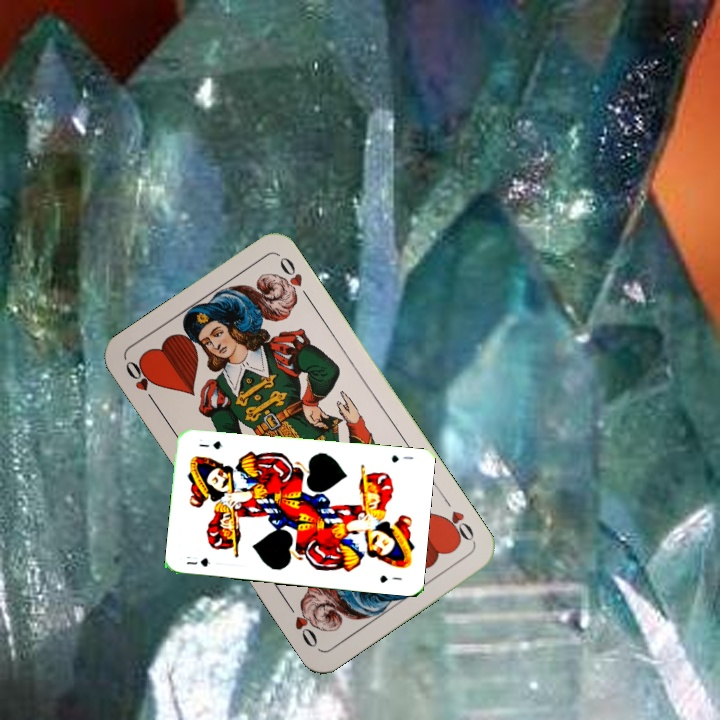GU: (182, 552, 213, 569), (387, 451, 416, 465)
HO: (437, 492, 477, 547), (121, 356, 160, 409)
